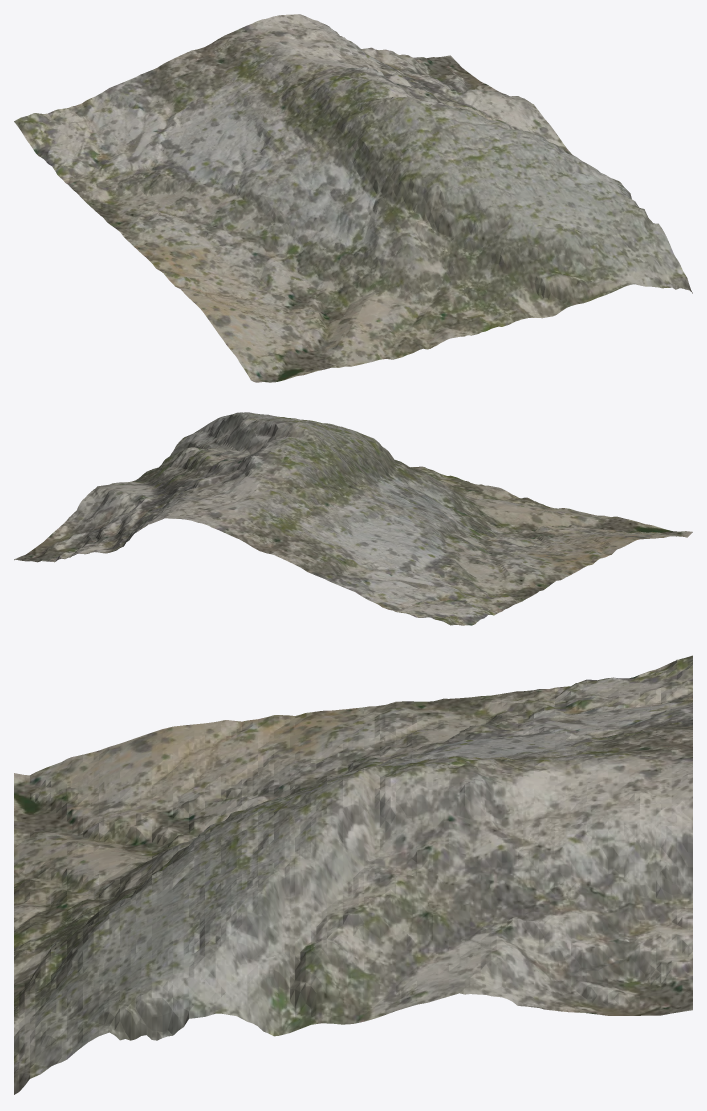
3 views of the same model, one above another, from view 1: azimuth 30°, elevation 25°; view 2: azimuth 150°, elevation 25°; view 3: azimuth 270°, elevation 25° (orthographic). The views are drawn at different scales.
Size of the model in its own units: 500 by 164 by 481.
1 material, 1 textured.
